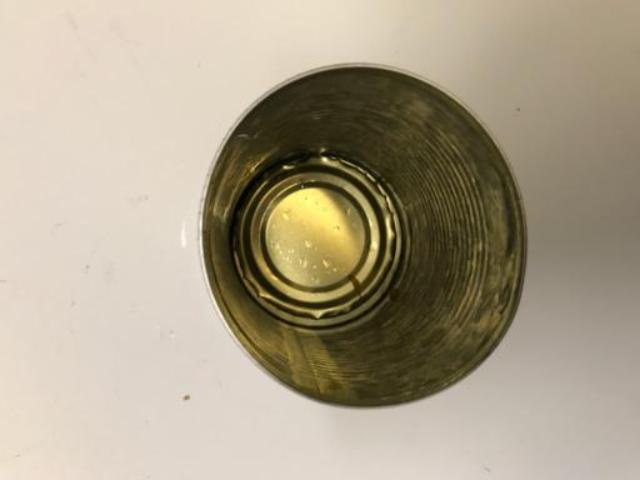metal: (201, 65, 522, 404)
